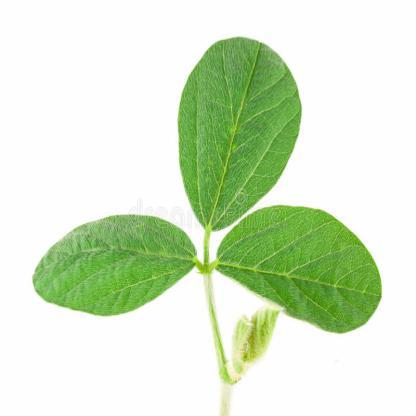Soyabean leaf: (177, 32, 302, 232), (216, 205, 384, 335), (32, 214, 198, 319)
